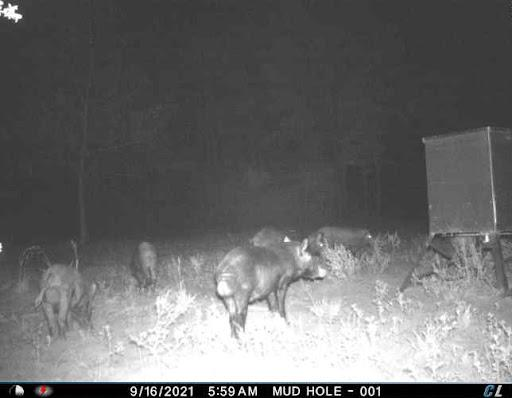Hog: (211, 226, 327, 346), (25, 256, 99, 344), (314, 222, 385, 260), (124, 236, 164, 295)
